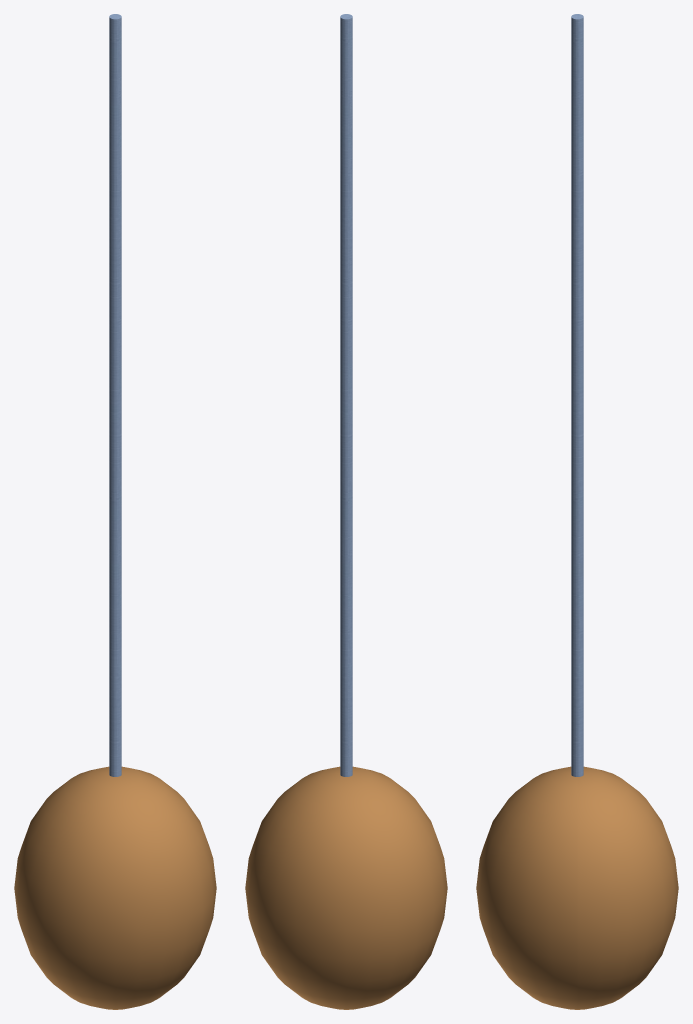
Rendered from prumo.glb.
3 renders of one model, left to right at view 1: azimuth 30°, elevation 25°; view 2: azimuth 150°, elevation 25°; view 3: azimuth 270°, elevation 25°, orthographic.
Visible parts, largest first — view 1: Peso, Linha de prumo; view 2: Peso, Linha de prumo; view 3: Peso, Linha de prumo.
Part boxes in pixels (box(x1,y1,x2,y2)): Peso: box(14, 766, 216, 1009); Linha de prumo: box(109, 14, 121, 776); Peso: box(245, 766, 447, 1009); Linha de prumo: box(340, 14, 352, 776); Peso: box(476, 766, 678, 1009); Linha de prumo: box(571, 14, 583, 776).
Size of the model in its own units: 0.4 by 2.15 by 0.4.
2 materials, 1 textured.
